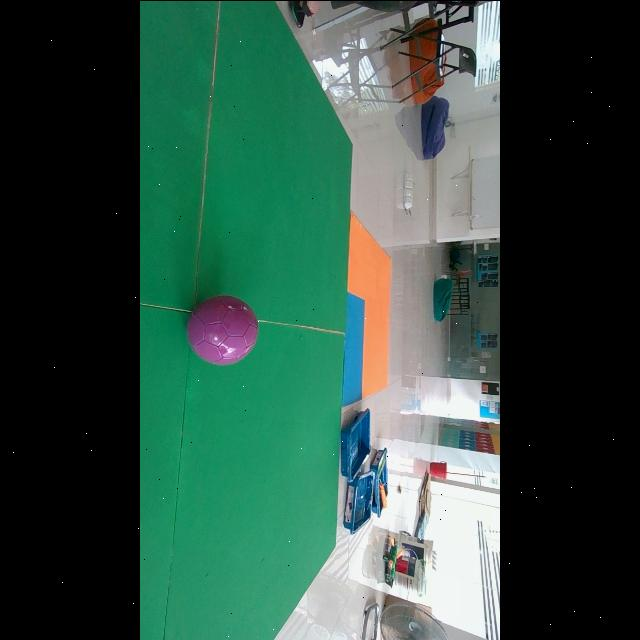P: (187, 294, 258, 364)
